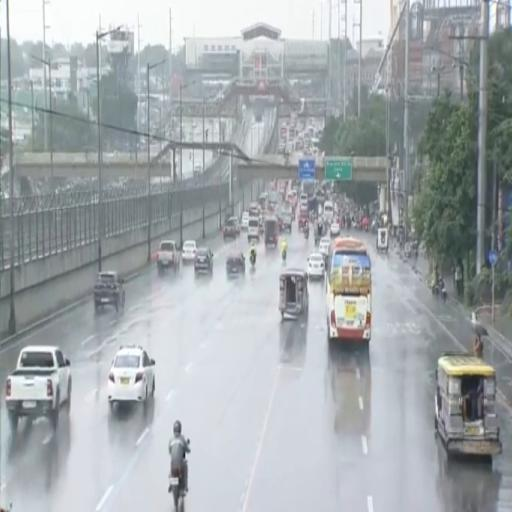bus: (326, 237, 371, 344)
car: (108, 345, 155, 409), (93, 271, 124, 312), (194, 248, 213, 275), (226, 250, 245, 277), (307, 252, 324, 278), (223, 217, 239, 239), (182, 240, 196, 262), (248, 217, 259, 242), (319, 237, 330, 258), (330, 220, 340, 236), (241, 212, 249, 230)
jeepney: (435, 352, 501, 456)
motorcycle: (438, 281, 446, 302), (250, 254, 255, 269), (304, 228, 310, 240), (282, 249, 286, 262), (187, 440, 190, 444)
truck: (6, 346, 71, 431), (157, 240, 180, 273)
